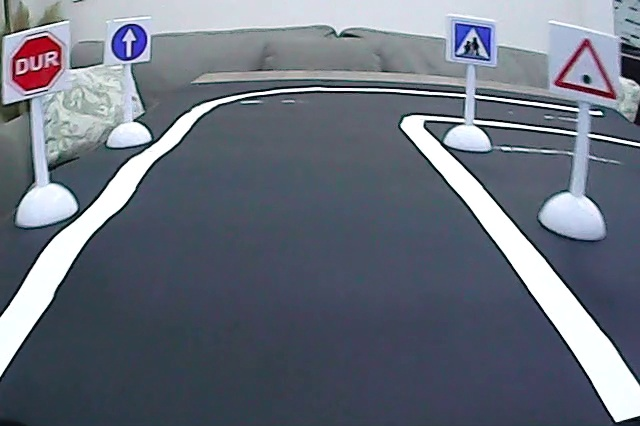green light: (551, 34, 621, 103)
school crossing: (452, 18, 494, 65)
stop sign: (7, 31, 67, 99)
